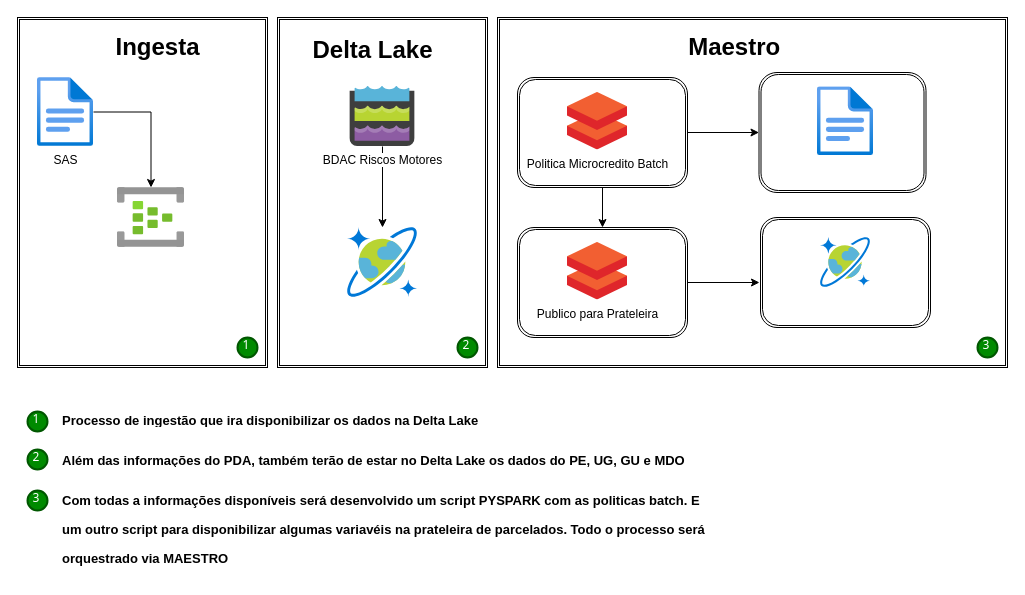
The diagram is 1025 pixels wide and 595 high, and some of its shapes have lost their labels. Here are the shapes that lost their labels. From the top down, the centre of each, then its label:
At (845,120): "log_microcreditoBatch".
At (150,217): "job de Ingestão".
At (382,262): "Tabelas".
At (845,262): "Prateleira Parcelados".
